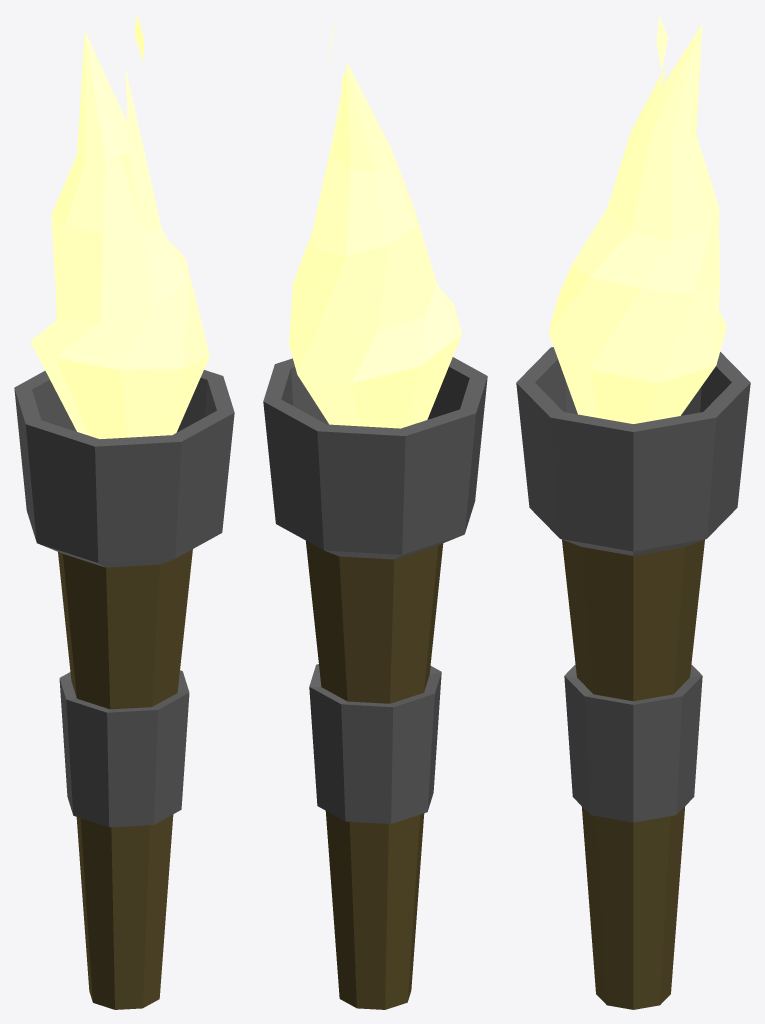
File: torch_1.fbx
3 views of the same model, side by side, from view 1: azimuth 30°, elevation 25°; view 2: azimuth 150°, elevation 25°; view 3: azimuth 270°, elevation 25° (orthographic). The views are drawn at different scales.
Visible parts, largest first — view 1: torch_1; view 2: torch_1; view 3: torch_1.
Part boxes in pixels (bbox=[...]): torch_1: bbox=[14, 14, 234, 1009]; torch_1: bbox=[263, 17, 487, 1009]; torch_1: bbox=[516, 14, 750, 1009].
Size of the model in its own units: 33.28 by 155 by 33.28.
